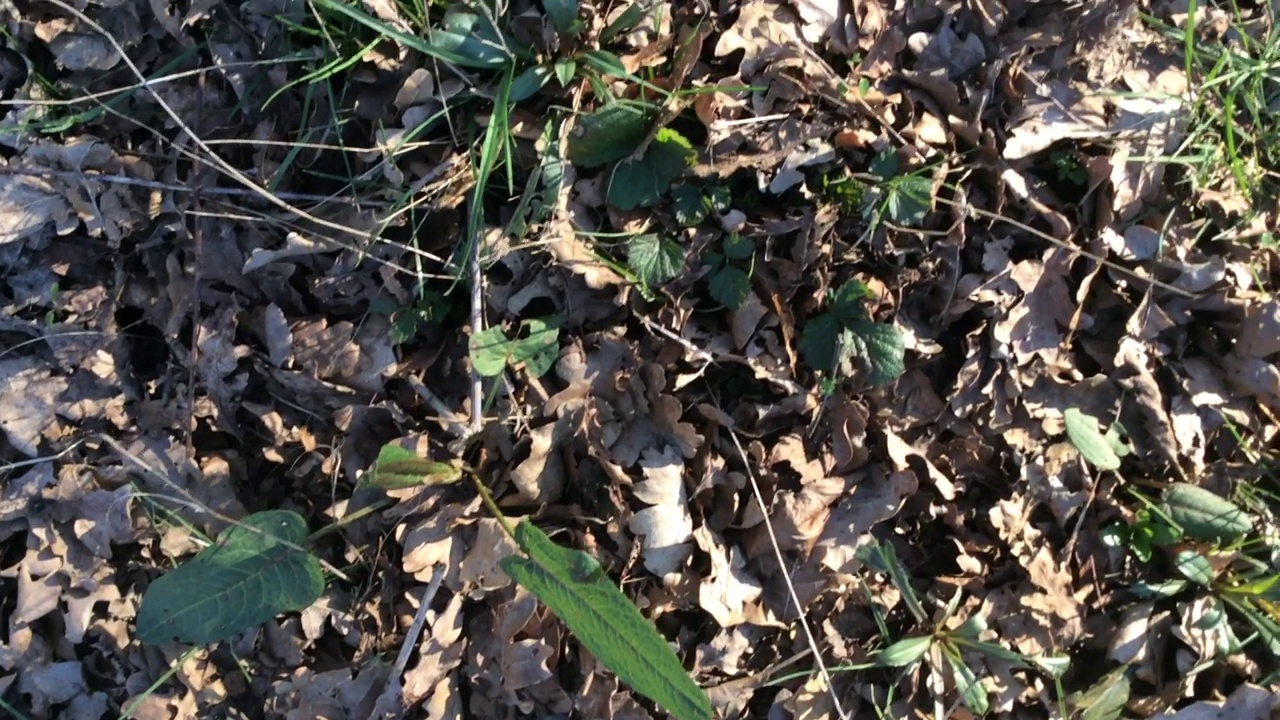rumex: (136, 312, 714, 720)
